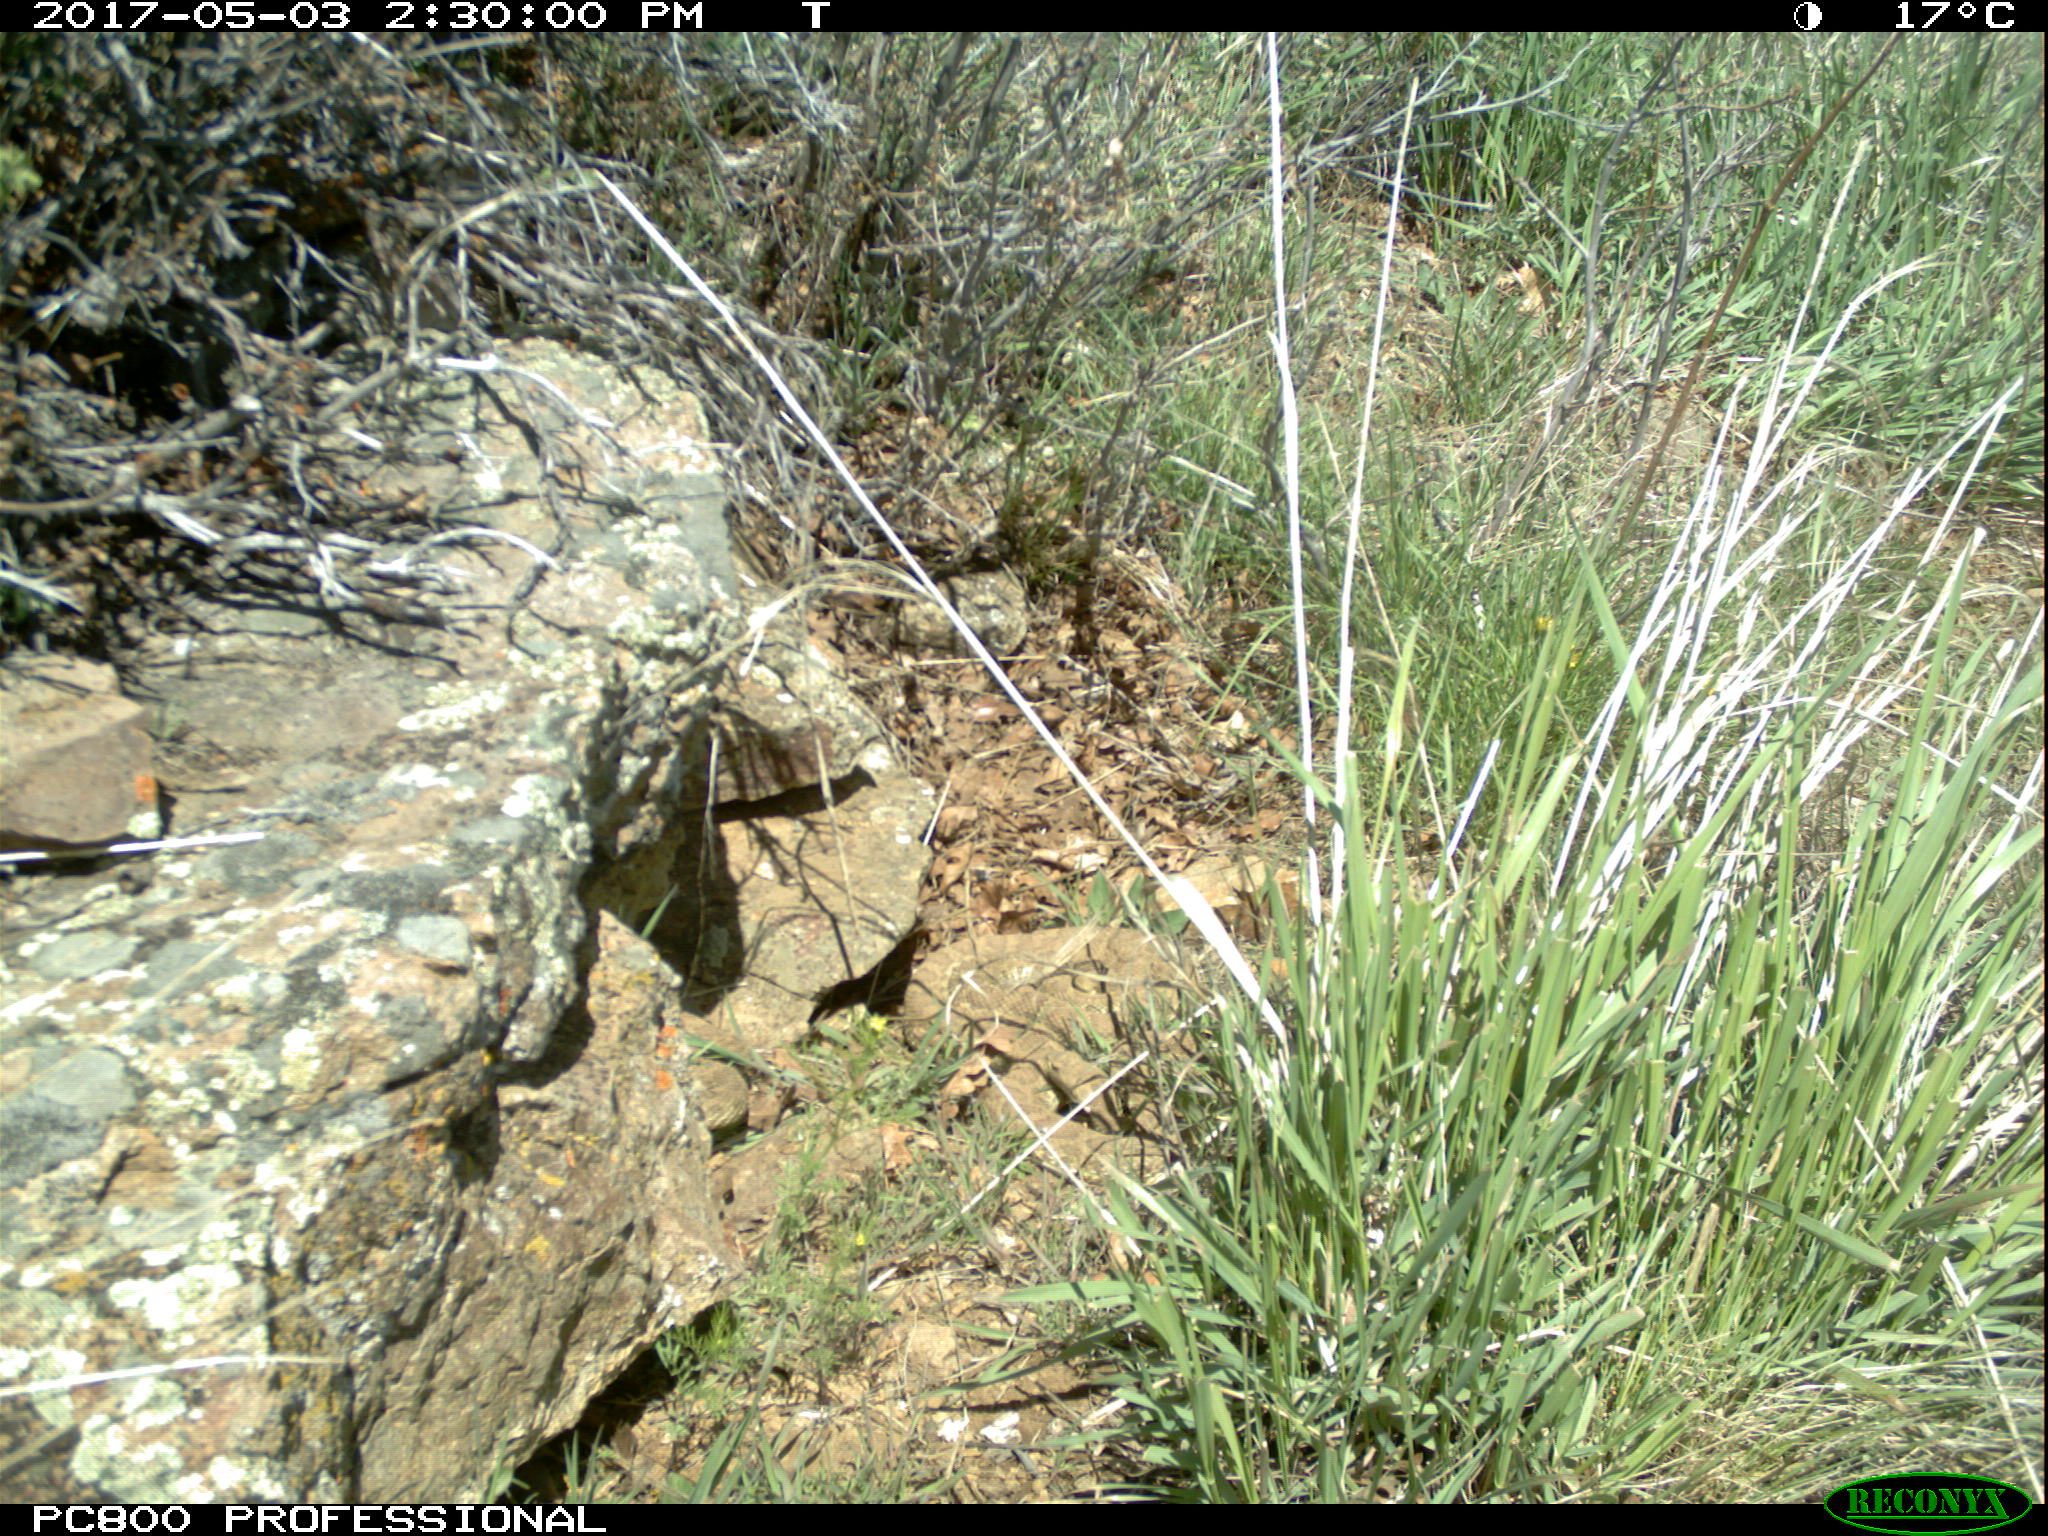snake: (898, 925, 1224, 1062)
